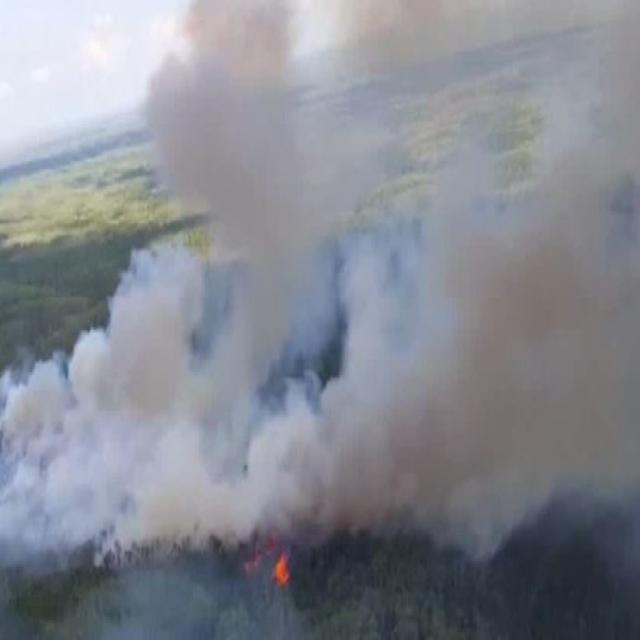Fire: (270, 543, 296, 588)
Smoke: (1, 0, 640, 588)
